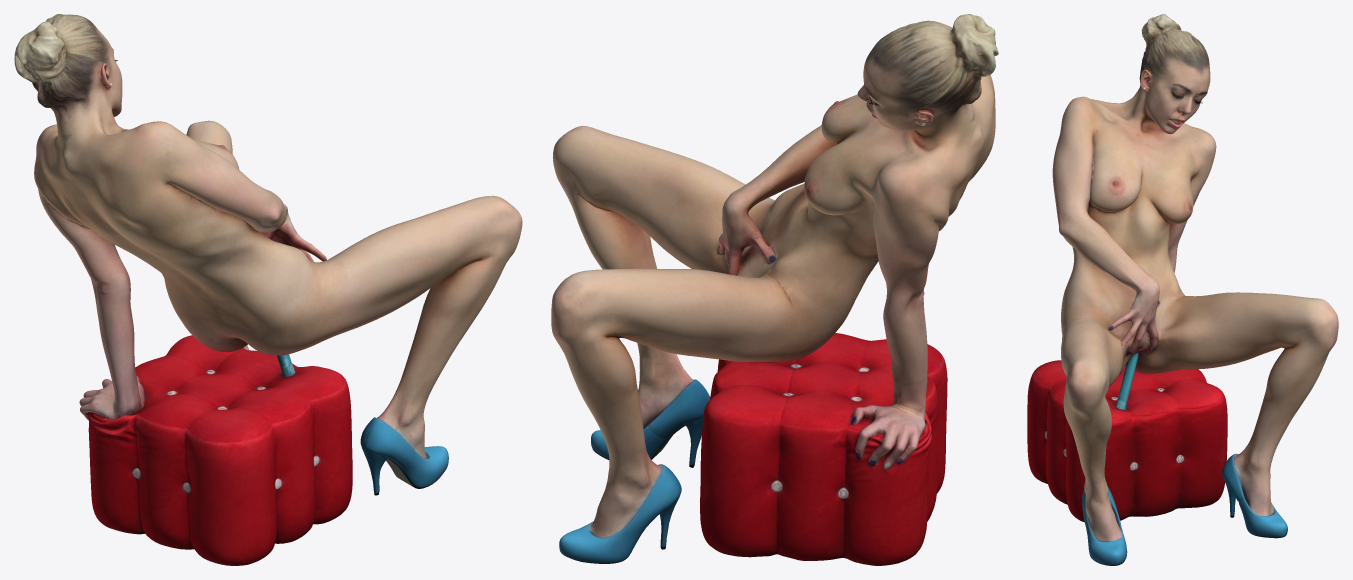
3 renders of one model, left to right at view 1: azimuth 30°, elevation 25°; view 2: azimuth 150°, elevation 25°; view 3: azimuth 270°, elevation 25°, orthographic. The views are drawn at different scales.
Visible parts, largest first — view 1: 56_LOD0_MeshPart0; view 2: 56_LOD0_MeshPart0; view 3: 56_LOD0_MeshPart0.
Boxes of the visible parts, x1,y1,x2,y2 form: 56_LOD0_MeshPart0: (14,14,522,565); 56_LOD0_MeshPart0: (551,14,998,565); 56_LOD0_MeshPart0: (1027,14,1338,565).
Size of the model in its own units: 1.02 by 1.11 by 0.7579.
2 materials, 1 textured.
